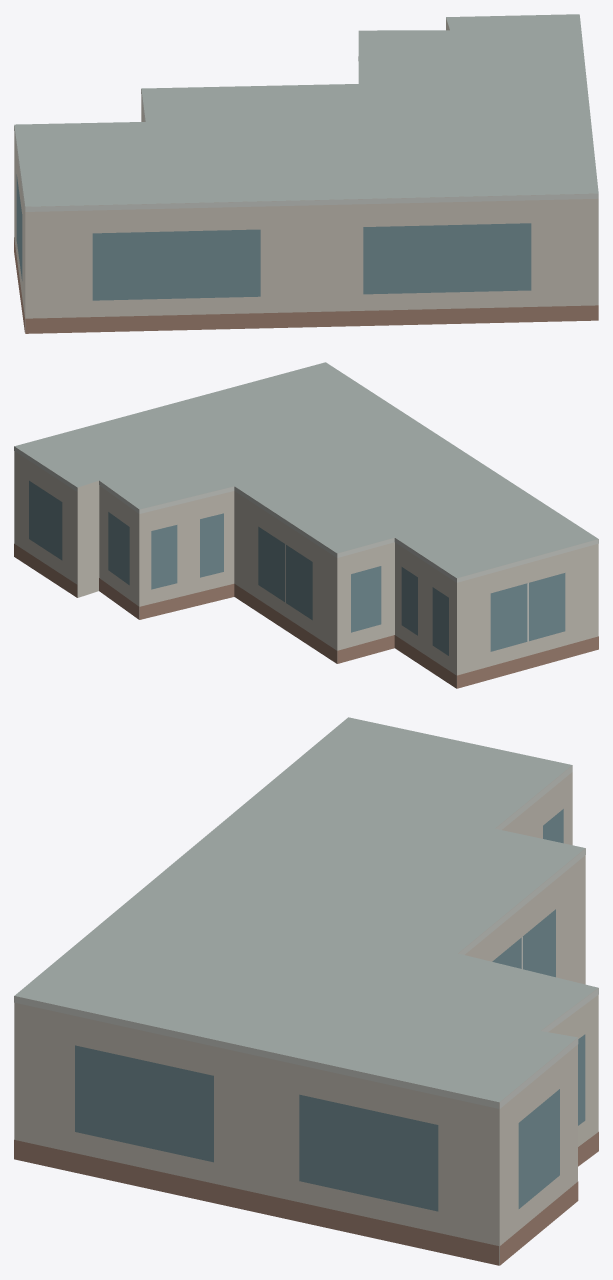
The model's file is survey-upis-32723868.glb.
3 views of the same model, one above another, from view 1: azimuth 30°, elevation 25°; view 2: azimuth 150°, elevation 25°; view 3: azimuth 270°, elevation 25° (orthographic). The views are drawn at different scales.
Visible parts, largest first — view 1: survey-upis-32723868.tmp; view 2: survey-upis-32723868.tmp; view 3: survey-upis-32723868.tmp.
Part boxes in pixels (bbox=[...]): survey-upis-32723868.tmp: bbox=[14, 14, 598, 333]; survey-upis-32723868.tmp: bbox=[14, 362, 598, 688]; survey-upis-32723868.tmp: bbox=[14, 717, 598, 1265].
Size of the model in its own units: 15.43 by 3.05 by 9.9.
